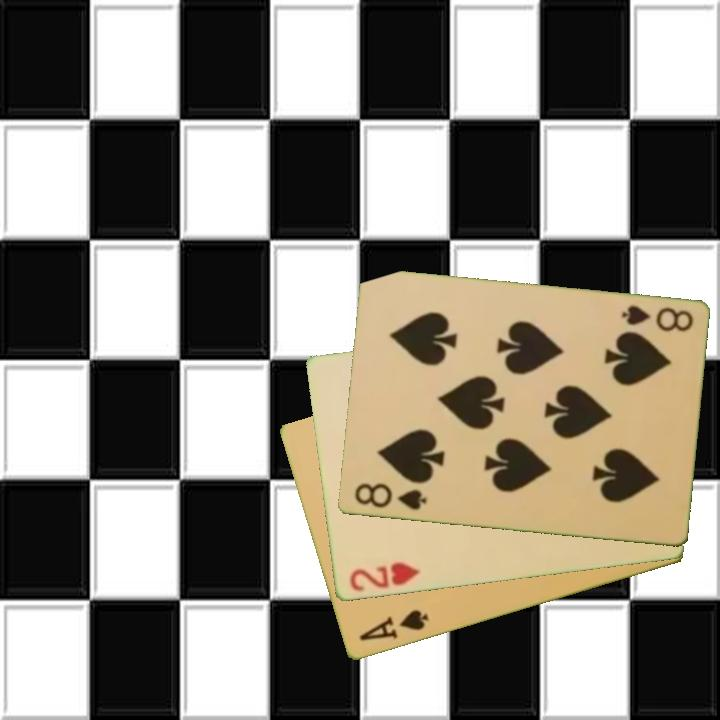2h: (346, 559, 423, 595)
8s: (351, 480, 429, 514), (617, 302, 696, 335)
As: (355, 606, 432, 645)
